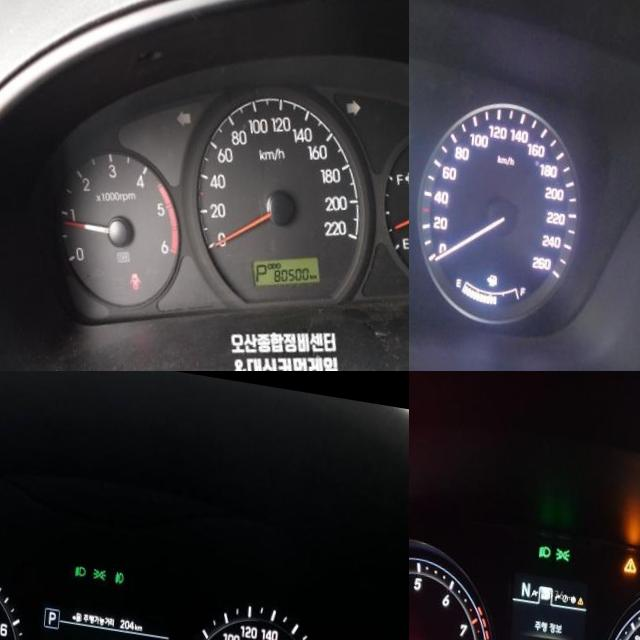Central Warning lamp: (626, 543, 640, 559)
Doors: (134, 262, 148, 283)
FrontFogLight: (118, 558, 127, 573)
Low beam: (541, 534, 554, 548), (77, 554, 89, 568)
SideLamp: (558, 536, 574, 551), (95, 556, 110, 570)
